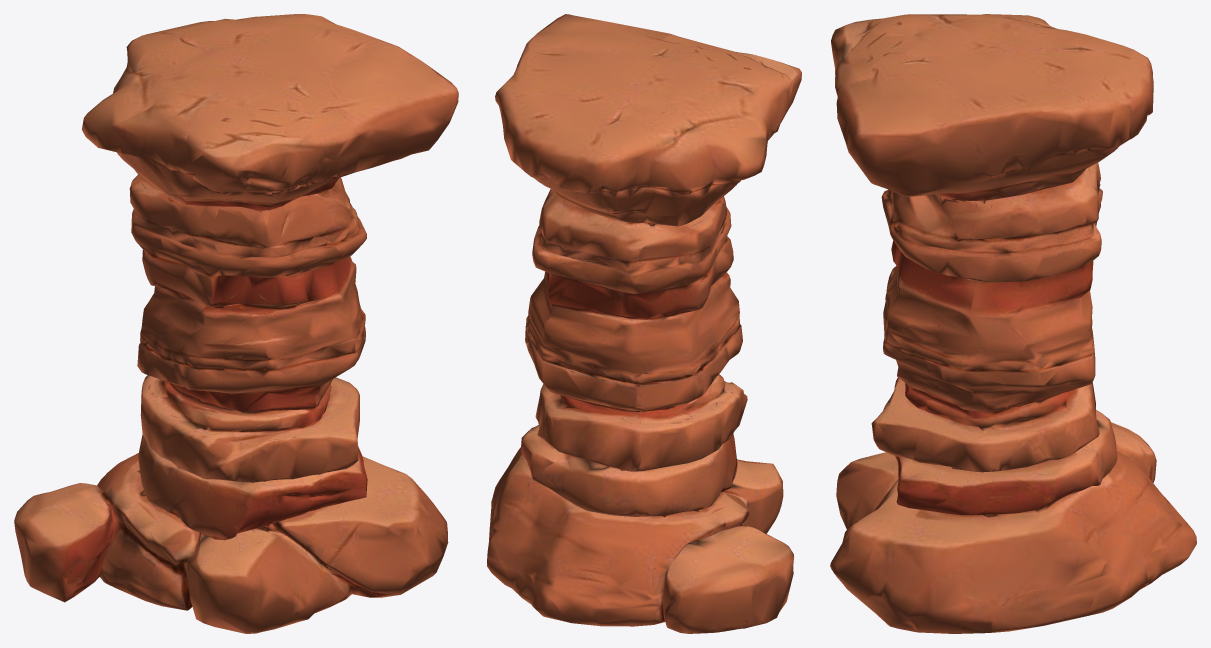
The model's file is mesa.glb.
3 renders of one model, left to right at view 1: azimuth 30°, elevation 25°; view 2: azimuth 150°, elevation 25°; view 3: azimuth 270°, elevation 25°, orthographic. The views are drawn at different scales.
Size of the model in its own units: 1.4 by 1.9 by 1.24.
Materials: 1 (1 with a texture image).
